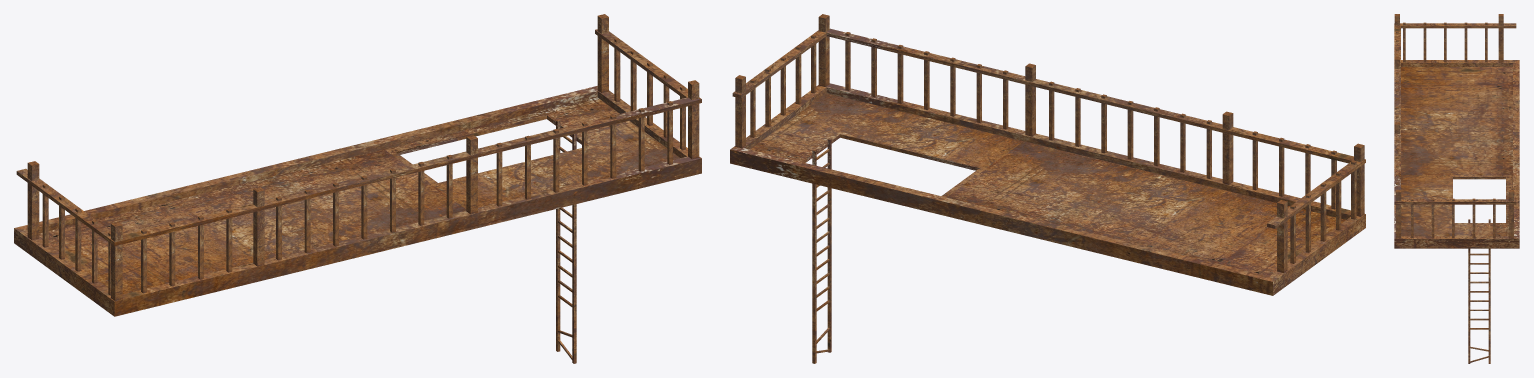
File: fire_escape_04.fbx
3 views of the same model, side by side, from view 1: azimuth 30°, elevation 25°; view 2: azimuth 150°, elevation 25°; view 3: azimuth 270°, elevation 25° (orthographic). The views are drawn at different scales.
Parts seen in each view (by area): view 1: fire_escape_04; view 2: fire_escape_04; view 3: fire_escape_04.
Boxes of the visible parts, x1,y1,x2,y2 form: fire_escape_04: (14,14,701,363); fire_escape_04: (730,14,1365,363); fire_escape_04: (1394,14,1519,363).
Size of the model in its own units: 8.26 by 4.12 by 2.45.
